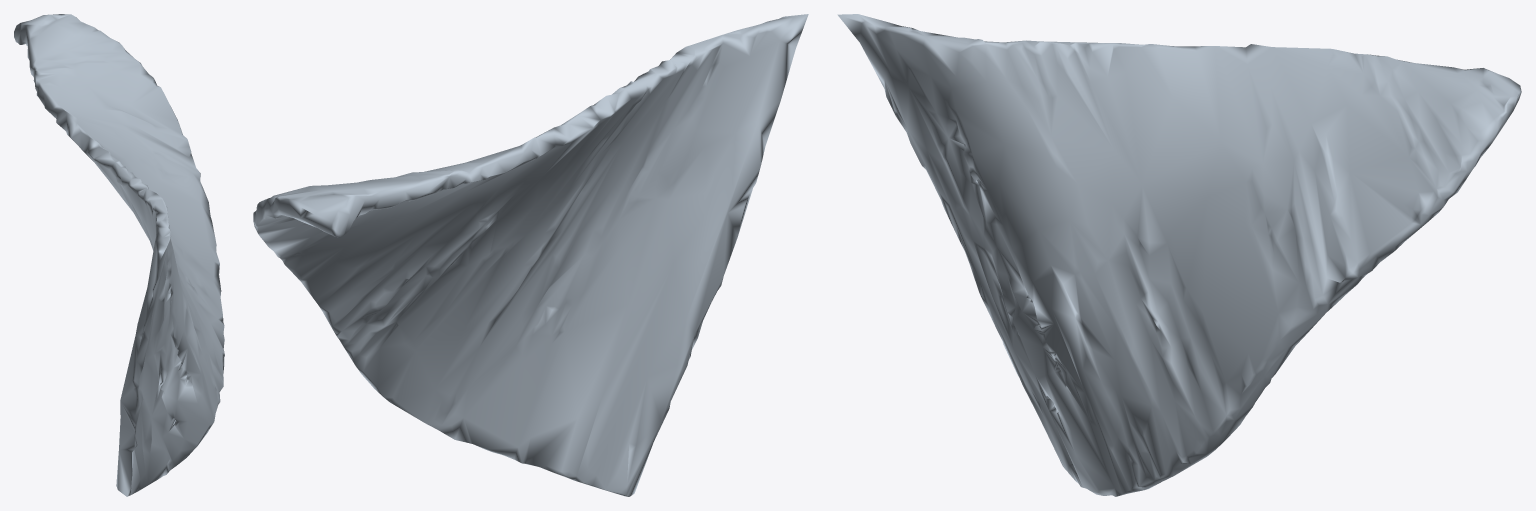
The model's file is cricopharyngeal-ligament-l.glb.
3 views of the same model, side by side, from view 1: azimuth 30°, elevation 25°; view 2: azimuth 150°, elevation 25°; view 3: azimuth 270°, elevation 25° (orthographic). The views are drawn at different scales.
Parts seen in each view (by area): view 1: Cricopharyngeal ligament.l; view 2: Cricopharyngeal ligament.l; view 3: Cricopharyngeal ligament.l.
Part boxes in pixels (x1,y1,x2,y2): Cricopharyngeal ligament.l: (14, 14, 224, 496); Cricopharyngeal ligament.l: (253, 14, 808, 496); Cricopharyngeal ligament.l: (837, 14, 1521, 496).
Bounding box in the file's own units: 0.00869 × 0.0128 × 0.0181.
